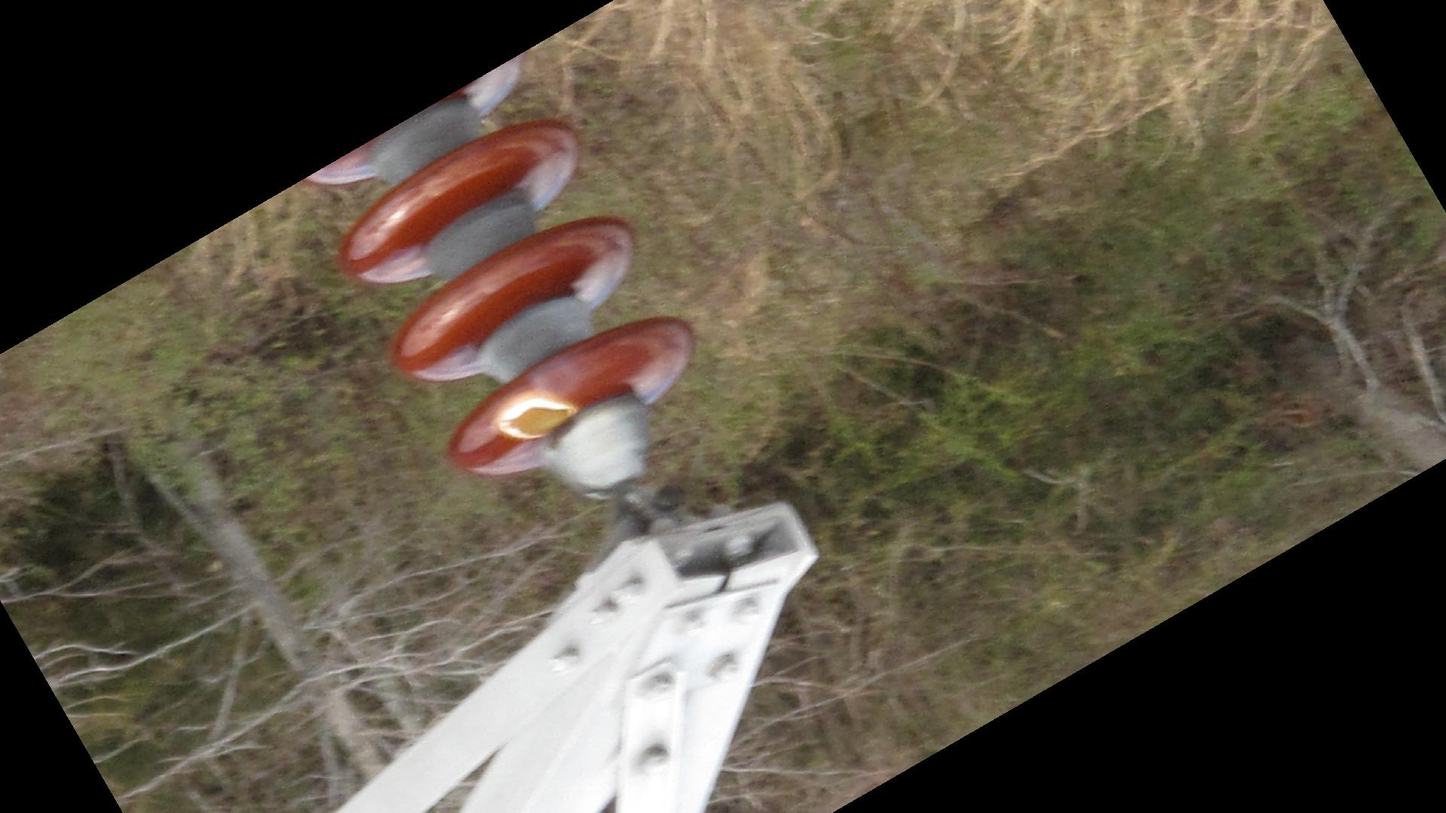insulator: (293, 50, 702, 488)
insulator_flashover: (495, 393, 579, 443)
